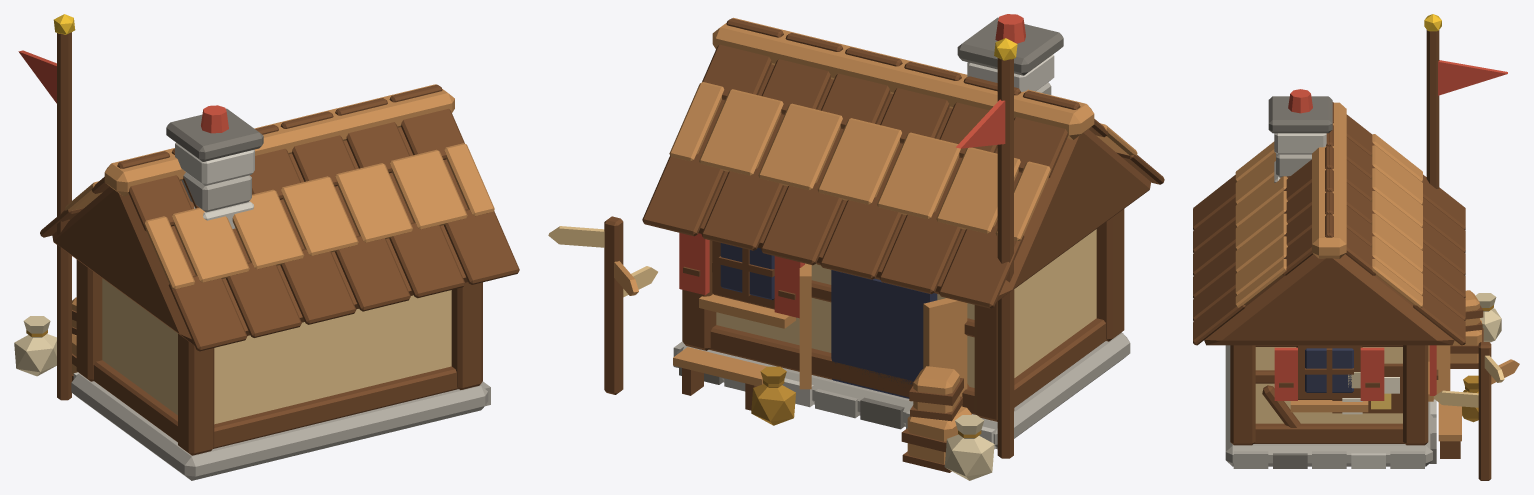
The model's file is courier_station_l1.fbx.
3 views of the same model, side by side, from view 1: azimuth 30°, elevation 25°; view 2: azimuth 150°, elevation 25°; view 3: azimuth 270°, elevation 25° (orthographic). The views are drawn at different scales.
Parts seen in each view (by area): view 1: courier_station_l1, Flag; view 2: courier_station_l1, Flag; view 3: courier_station_l1, Flag.
Boxes of the visible parts, bbox=[...] form: courier_station_l1: bbox=[14, 14, 519, 480]; Flag: bbox=[18, 50, 56, 103]; courier_station_l1: bbox=[548, 14, 1164, 480]; Flag: bbox=[956, 99, 1005, 148]; courier_station_l1: bbox=[1193, 14, 1519, 480]; Flag: bbox=[1438, 60, 1507, 95].
Bounding box in the file's own units: 0.8181 × 0.7572 × 0.6813.
